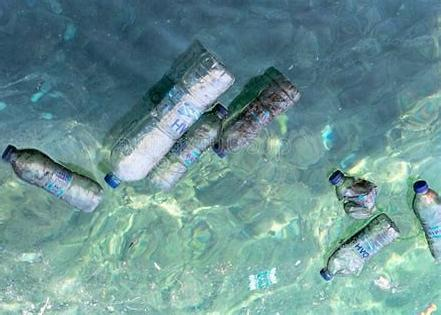Plastic: (105, 48, 236, 188), (211, 70, 301, 160), (0, 146, 104, 213), (146, 103, 226, 188), (319, 212, 403, 279), (409, 180, 441, 259), (328, 169, 377, 217)
